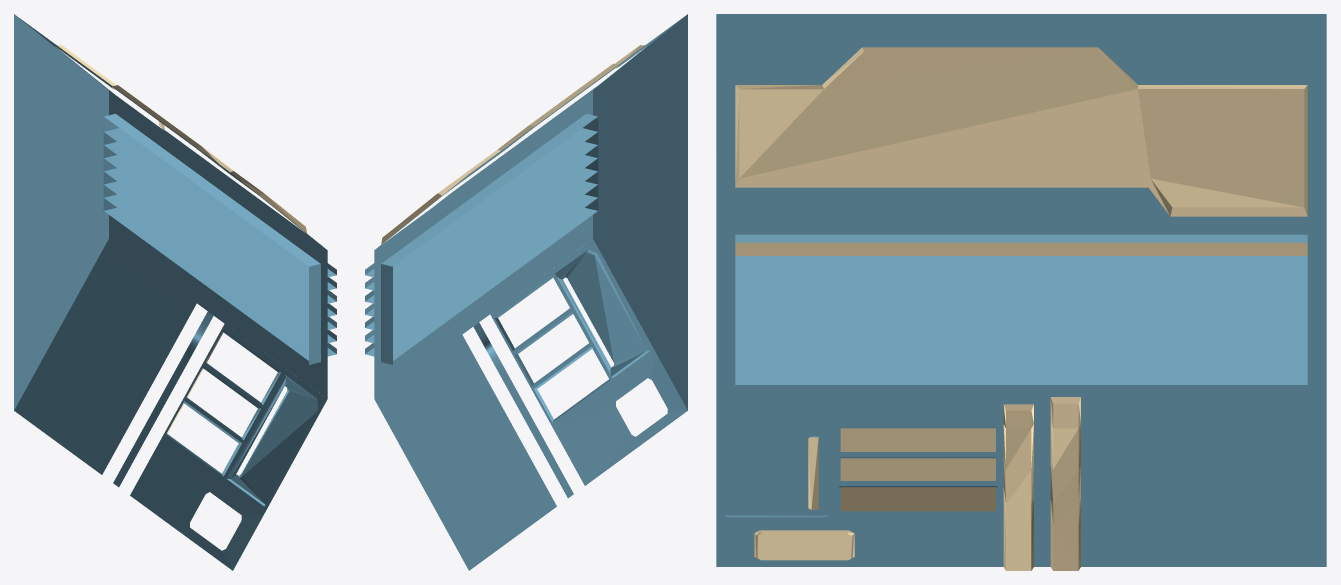
Rendered from uee_stanton_kit_ext_wall_0x8x8_06_reg.glb.
3 views of the same model, side by side, from view 1: azimuth 30°, elevation 25°; view 2: azimuth 150°, elevation 25°; view 3: azimuth 270°, elevation 25° (orthographic). The views are drawn at different scales.
Size of the model in its own units: 2.34 by 8 by 8.
